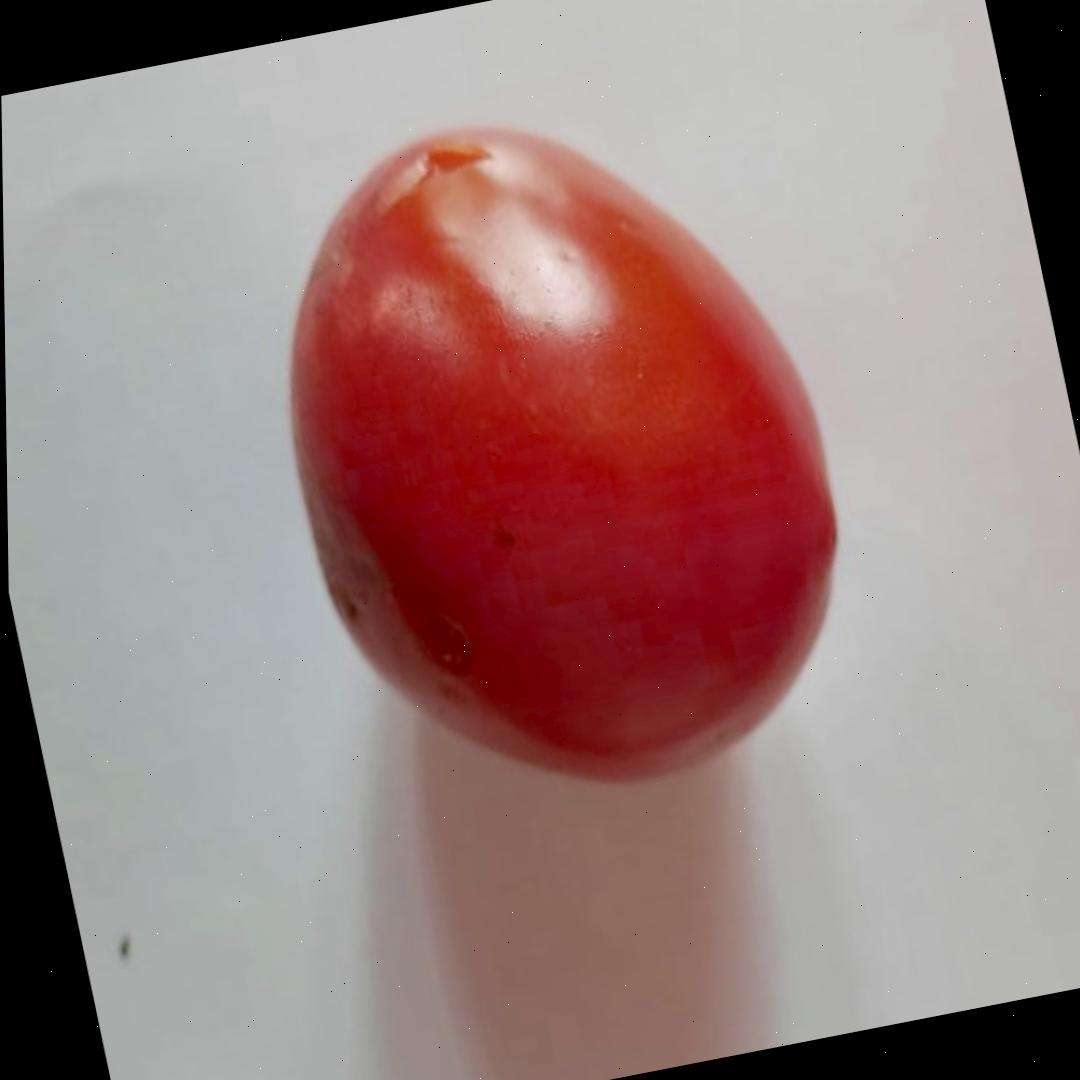matang: (229, 63, 888, 838)
